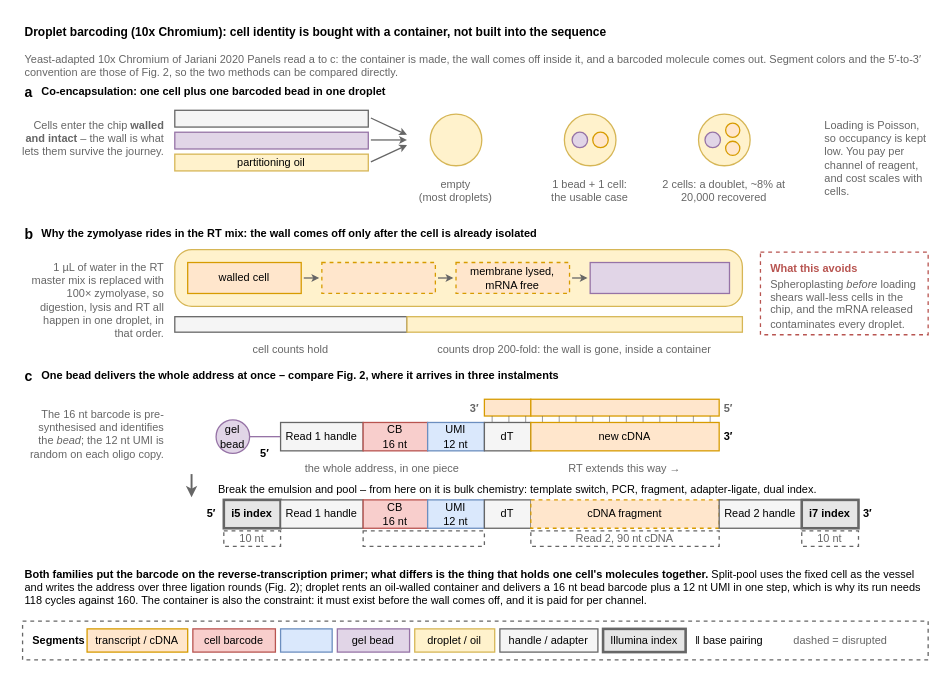
Image size: 951x682. Some labels were removed from this diagram. The shapes that lost their labels are listed below. From the top down, each one's centre as x and y in pixels, then its label:
At [271,118]: "cells (walled) + RT mix".
At [271,140]: "barcoded gel beads".
At [378,277]: "wall digested (spheroplast)".
At [659,277]: "captured on the bead oligo, then RT".
At [290,323]: "on ice + 6 min run".
At [574,323]: "53 °C, 20 min".
At [507,407]: "poly(A)".
At [624,407]: "mRNA template".
At [423,538]: "Read 1, 28 nt".
At [305,640]: "UMI".
